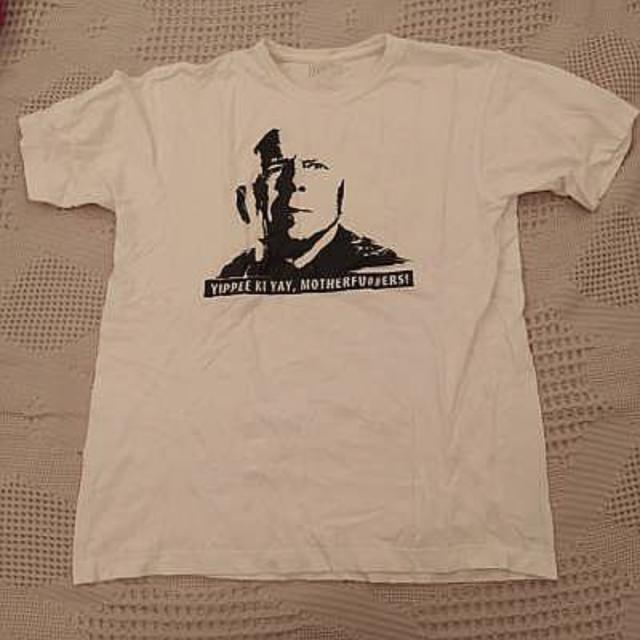T_SHIRT: (18, 29, 634, 592)
